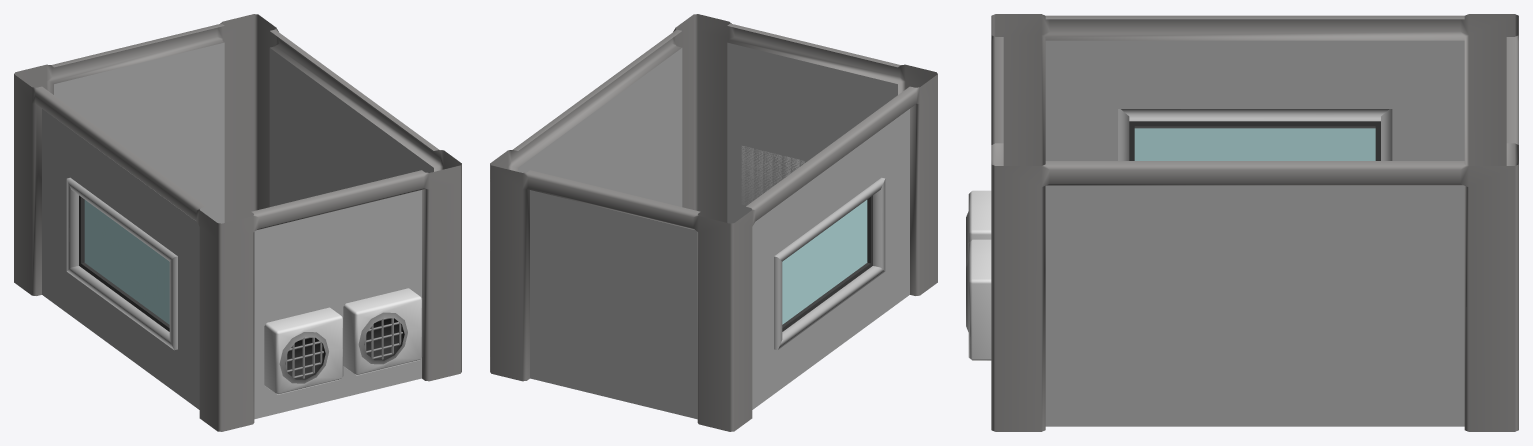
The model's file is MidFloor3.fbx.
3 views of the same model, side by side, from view 1: azimuth 30°, elevation 25°; view 2: azimuth 150°, elevation 25°; view 3: azimuth 270°, elevation 25° (orthographic). The views are drawn at different scales.
Visible parts, largest first — view 1: MidFloor3, ACUnit1, ACUnit2; view 2: MidFloor3, ACUnit1; view 3: MidFloor3, ACUnit1, ACUnit2.
Boxes of the visible parts, x1,y1,x2,y2 form: MidFloor3: (14, 14, 461, 431); ACUnit1: (343, 288, 422, 375); ACUnit2: (264, 307, 343, 394); MidFloor3: (490, 14, 937, 431); ACUnit1: (741, 146, 804, 205); MidFloor3: (991, 14, 1518, 431); ACUnit1: (966, 239, 991, 360); ACUnit2: (966, 190, 991, 265).
Bounding box in the file's own units: 429 × 350 × 660.
